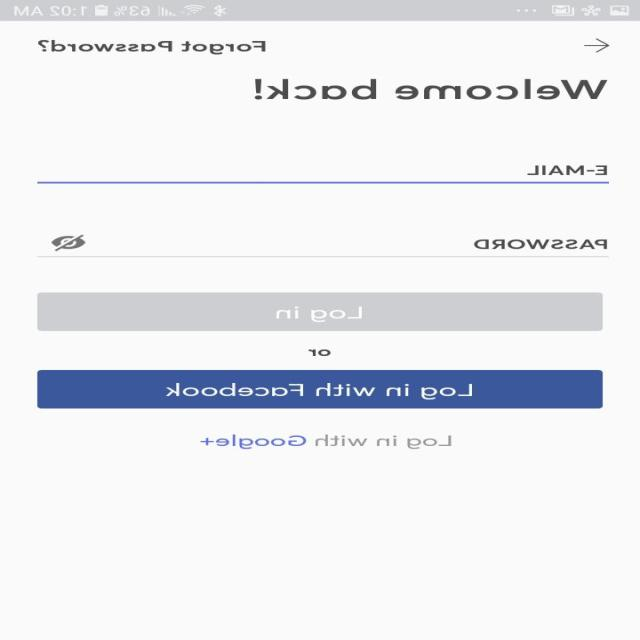EditText: (38, 234, 609, 257), (37, 165, 610, 184)
Icon: (52, 234, 87, 251), (583, 38, 611, 53)
Text: (254, 78, 608, 100), (201, 434, 452, 449), (38, 40, 267, 54), (308, 349, 332, 356)
TextButton: (38, 369, 604, 409), (38, 292, 603, 331)
